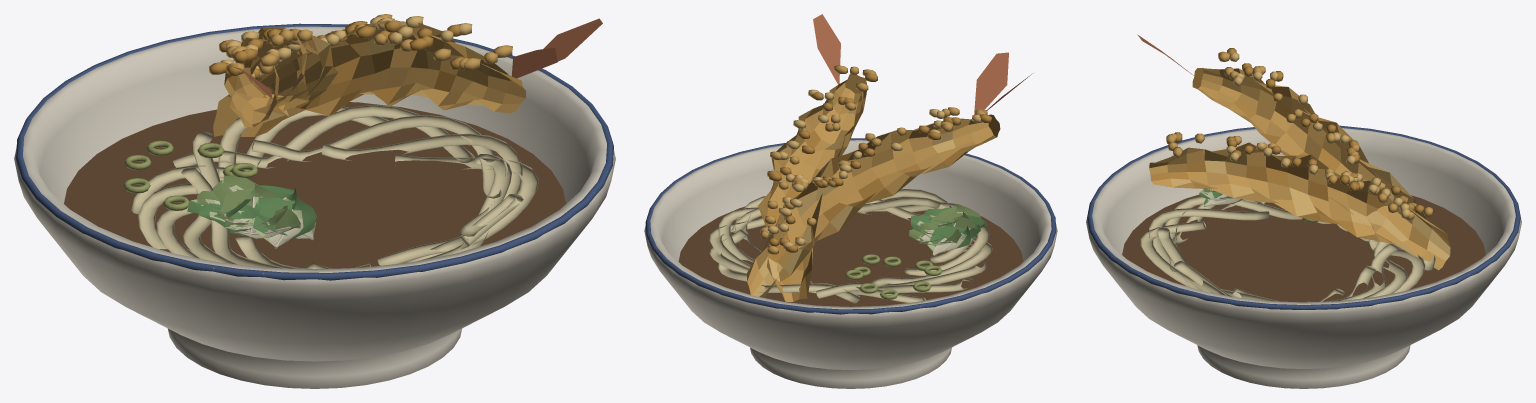
The model's file is tempura.glb.
The picture shows the model from 3 angles, left to right: view 1: azimuth 30°, elevation 25°; view 2: azimuth 150°, elevation 25°; view 3: azimuth 270°, elevation 25°; orthographic projection. The views are drawn at different scales.
Parts seen in each view (by area): view 1: Waraku_tempura; view 2: Waraku_tempura; view 3: Waraku_tempura.
Boxes of the visible parts, <box> form: Waraku_tempura: <box>14,14,615,388</box>; Waraku_tempura: <box>644,14,1057,388</box>; Waraku_tempura: <box>1086,34,1521,388</box>.
Bounding box in the file's own units: 0.21 × 0.143 × 0.21.
